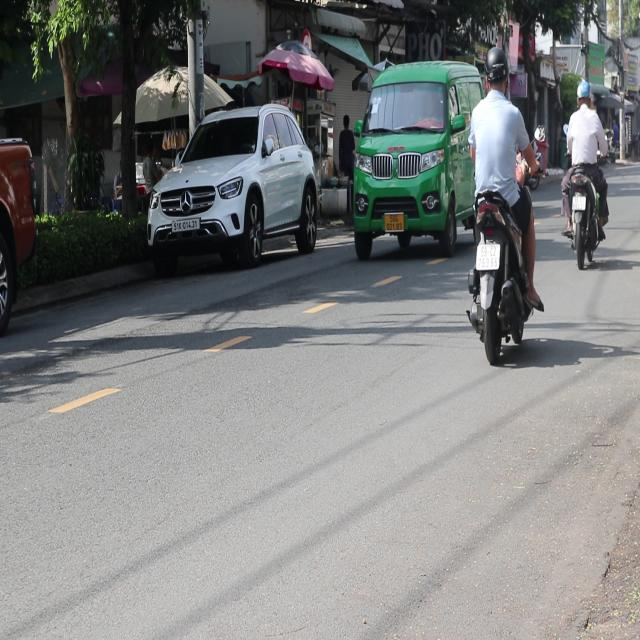helmet: (482, 44, 508, 94), (575, 78, 591, 106)
licenseplate: (463, 43, 543, 361), (559, 77, 610, 266)
nohelmet: (476, 243, 499, 269), (572, 195, 586, 209)
